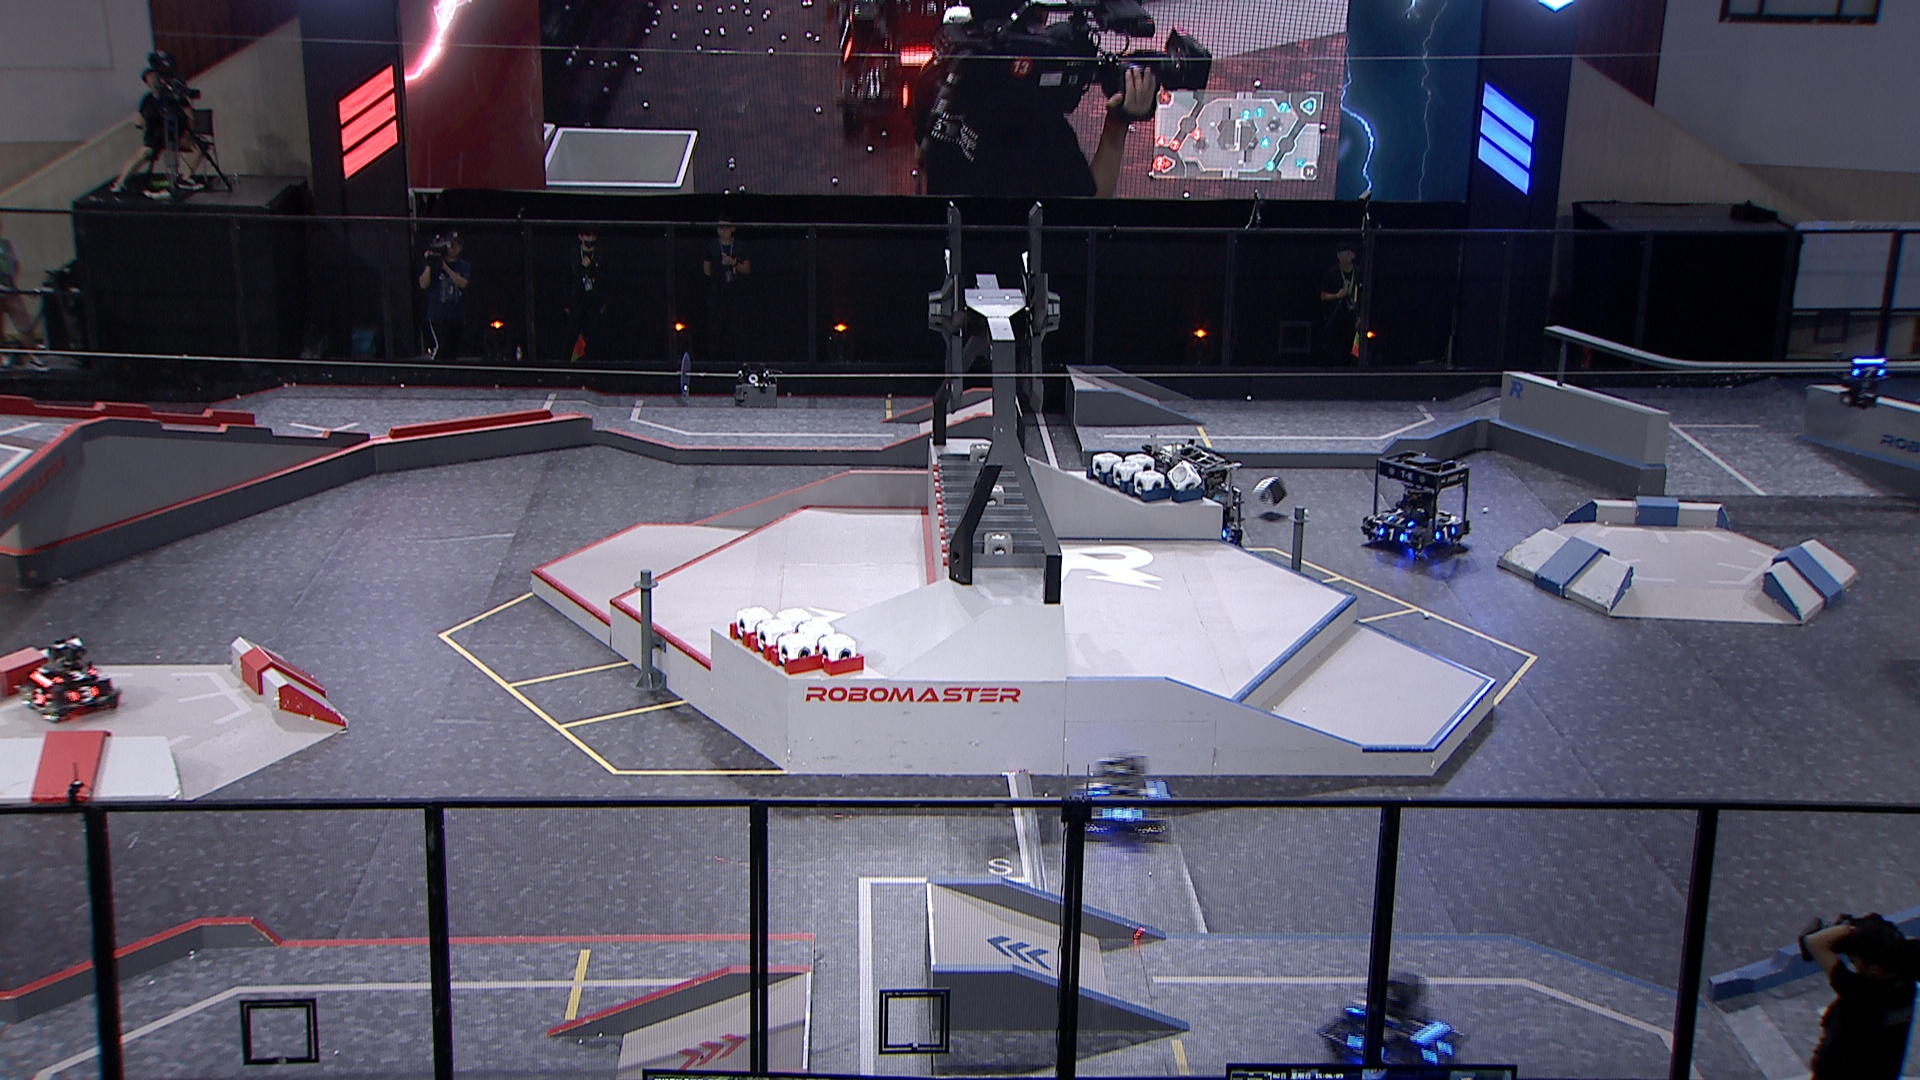armor: (1102, 806, 1145, 825), (1423, 1040, 1456, 1064), (1079, 777, 1112, 799), (49, 669, 95, 683), (69, 684, 102, 704), (1850, 365, 1887, 380), (1375, 526, 1404, 543), (1433, 524, 1457, 542), (29, 684, 47, 704), (1389, 513, 1414, 527)
car: (1313, 971, 1466, 1077), (1357, 452, 1472, 560), (1139, 446, 1244, 560), (1065, 752, 1171, 837), (15, 637, 120, 723)
watcher: (1837, 357, 1890, 410)
